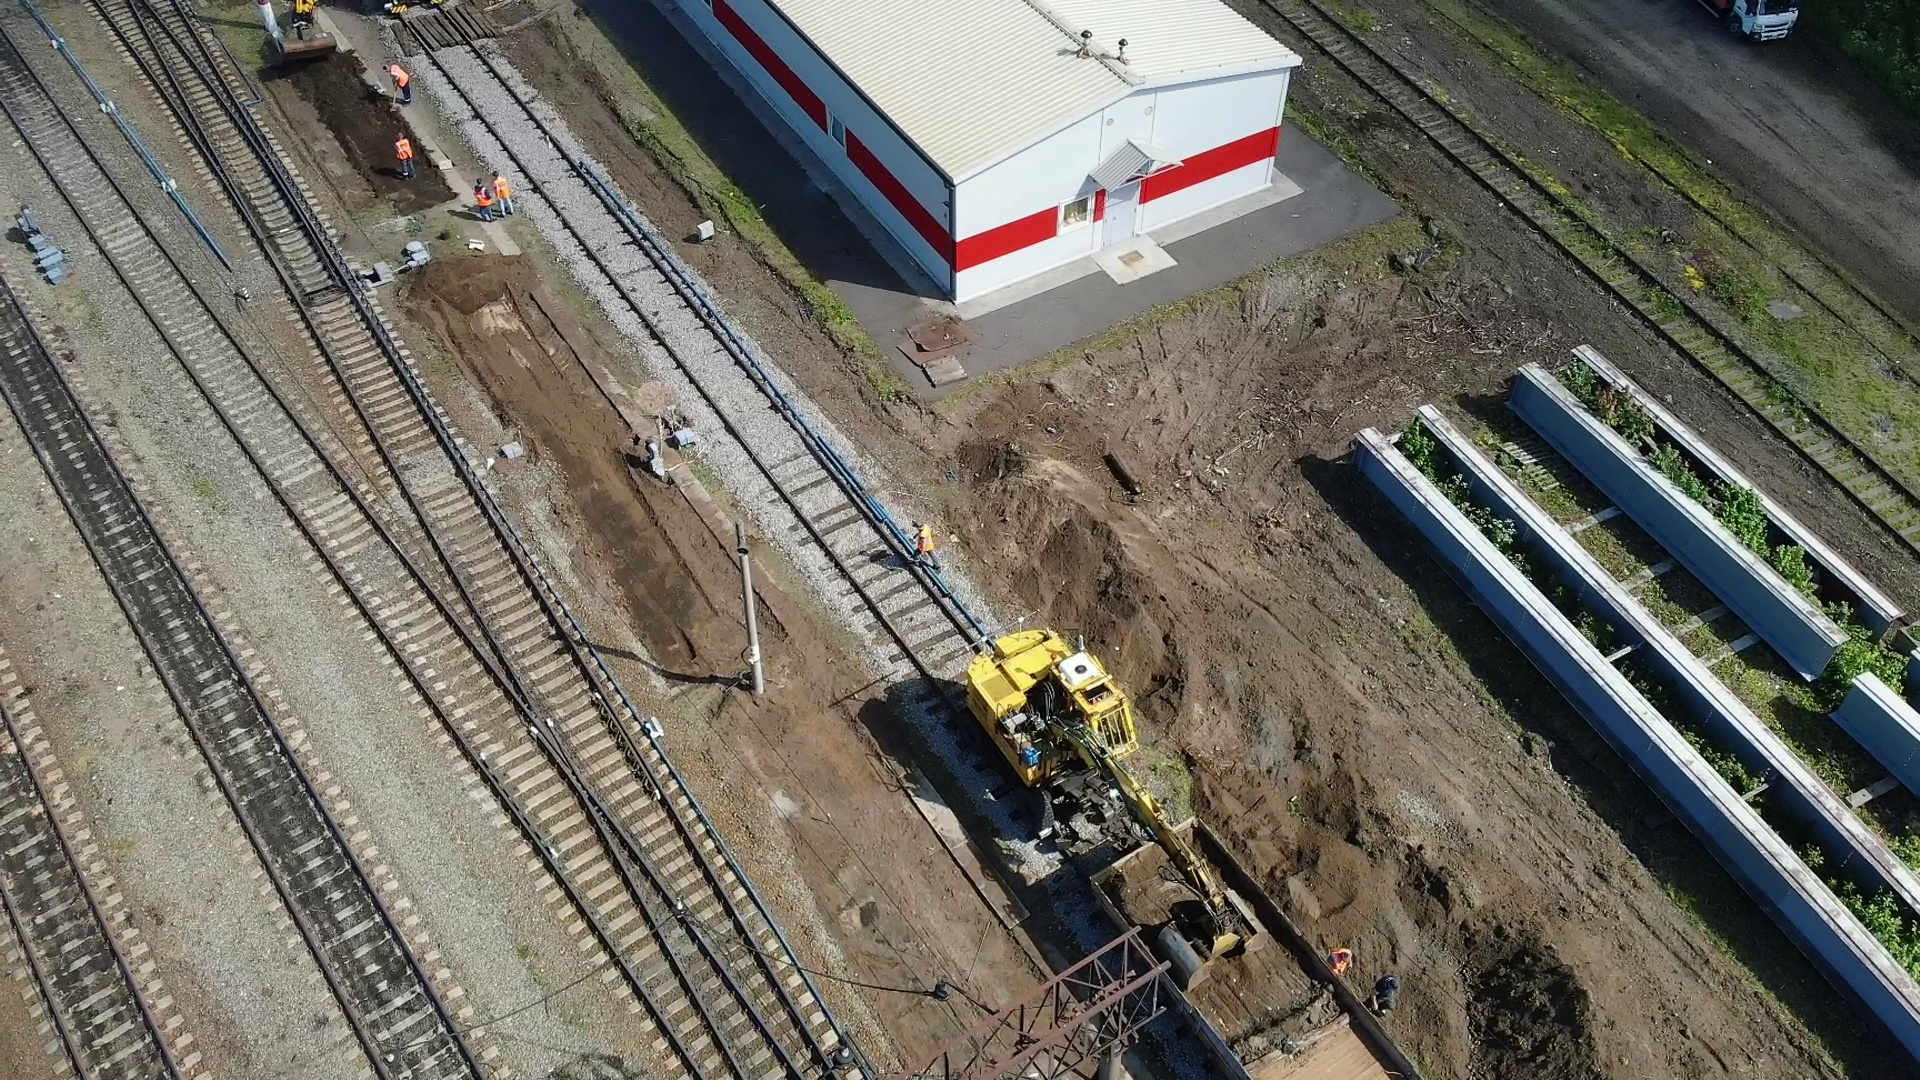kjtv: (965, 625, 1135, 832)
